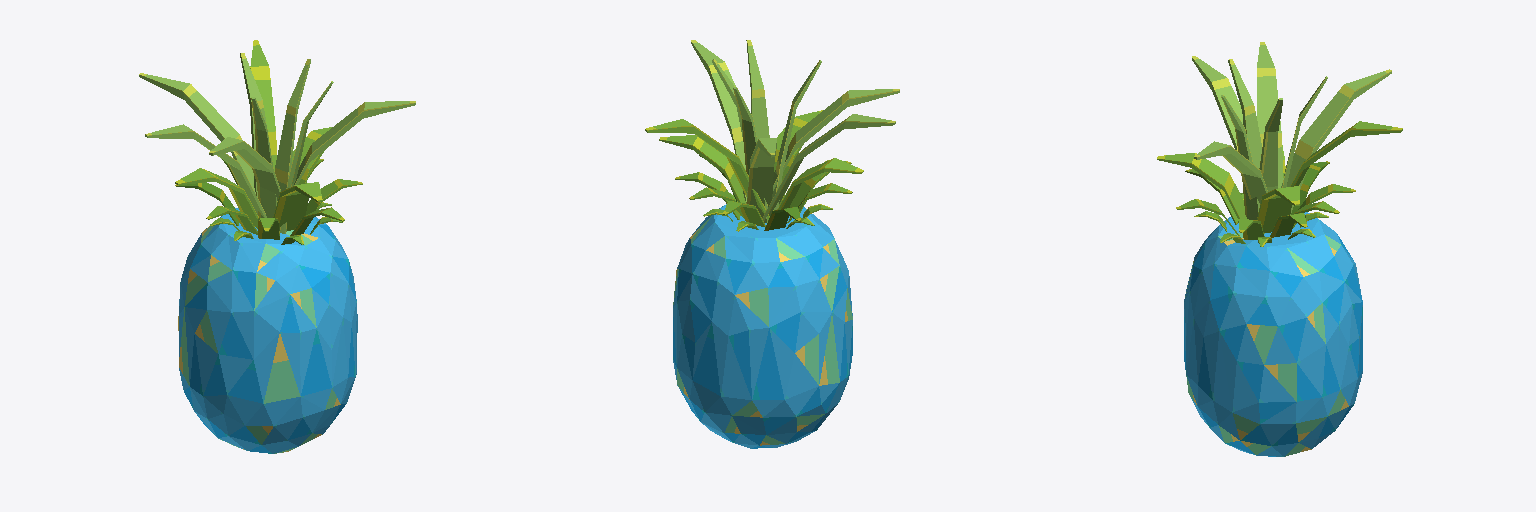
3 renders of one model, left to right at view 1: azimuth 30°, elevation 25°; view 2: azimuth 150°, elevation 25°; view 3: azimuth 270°, elevation 25°, orthographic.
Parts seen in each view (by area): view 1: Cylinder.002_Cylinder.010; view 2: Cylinder.002_Cylinder.010; view 3: Cylinder.002_Cylinder.010.
Part boxes in pixels (bbox=[...]): Cylinder.002_Cylinder.010: bbox=[139, 40, 415, 453]; Cylinder.002_Cylinder.010: bbox=[645, 40, 899, 448]; Cylinder.002_Cylinder.010: bbox=[1157, 42, 1402, 456].
Bounding box in the file's own units: 1.17 × 1.73 × 1.05.
Materials: 1 (1 with a texture image).